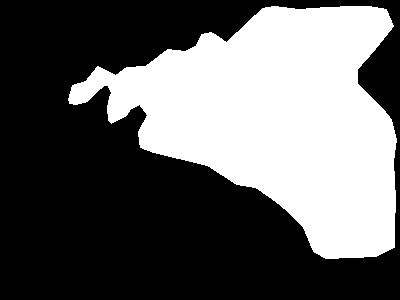Fire: (76, 44, 400, 192)
